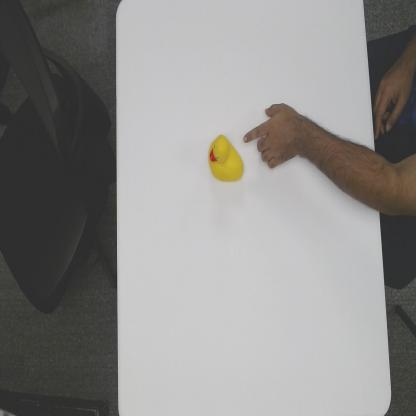Arm: (299, 113, 378, 215)
Duck: (208, 131, 245, 184)
Hand: (241, 102, 299, 171)
